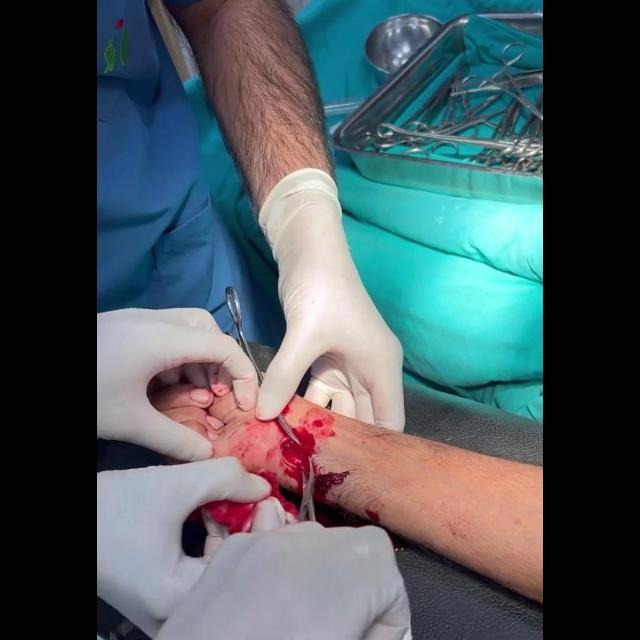blood: (183, 398, 382, 560)
